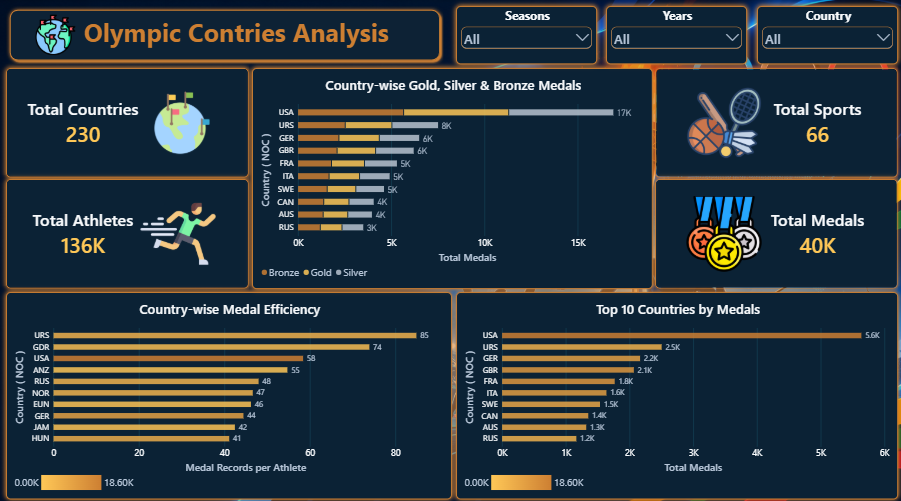

This screenshot's page, from the dashboard's own definition file:
{"tool":"powerbi","page":{"name":"Countries","canvas":[1920,1080],"ordinal":3},"visuals":[{"type":"cardVisual","fields":{"Data":["athlete_events.Total Countries"]},"box":[13,145.7,516,232.6],"z":0},{"type":"cardVisual","fields":{"Data":["athlete_events.Total Sports"]},"box":[1393.5,145.7,516,233],"z":1000},{"type":"cardVisual","fields":{"Data":["athlete_events.Total Athletes"]},"box":[13,382.6,516,232.6],"z":2000},{"type":"cardVisual","fields":{"Data":["athlete_events.Total Medals"]},"box":[1393.5,382.6,516,233],"z":3000},{"type":"clusteredBarChart","title":"Top 10 Countries by Medals","fields":{"Category":["athlete_events.NOC"],"Y":["athlete_events.Total Medals"]},"box":[969.6,623.9,940,441.3],"z":4000},{"type":"clusteredBarChart","title":"Country-wise Medal Efficiency","fields":{"Category":["athlete_events.NOC"],"Y":["athlete_events.Medal Efficiency %"]},"box":[13,623.9,947.8,441.3],"z":5000},{"type":"barChart","title":"Country-wise Gold, Silver & Bronze Medals","fields":{"Category":["athlete_events.NOC"],"Series":["athlete_events.Medal"],"Y":["athlete_events.Total Medals"]},"box":[534.8,145.7,852.2,470],"z":6000},{"type":"slicer","title":"Years","fields":{"Values":["athlete_events.Year"]},"box":[1289.1,15.2,300,123.9],"z":7000},{"type":"slicer","title":"Country","fields":{"Values":["athlete_events.NOC"]},"box":[1608.7,15.2,300,123.9],"z":8000},{"type":"shape","title":"Olympic Contries Analysis","box":[12.8,14.9,930.4,123.9],"z":9000},{"type":"image","box":[52.2,32.6,128.3,89.1],"z":10000},{"type":"image","box":[1439.1,182.6,200,160.9],"z":11000},{"type":"image","box":[1439.1,419.6,200,160.9],"z":12000},{"type":"image","box":[278.3,419.6,200,160.9],"z":13000},{"type":"image","box":[310.9,193.5,152.2,139.1],"z":14000},{"type":"slicer","title":"Seasons","fields":{"Values":["athlete_events.Season"]},"box":[969.6,15.2,300,123.9],"z":15000}]}

Visuals, with their boxes in screenshot pixels (x1, y1, x2, y2), scaled from the page's 1920x1080 canvas onto the 901x501 screenshot:
cardVisual - athlete_events.Total Countries: [6,68,248,175]
cardVisual - athlete_events.Total Sports: [654,68,896,176]
cardVisual - athlete_events.Total Athletes: [6,177,248,285]
cardVisual - athlete_events.Total Medals: [654,177,896,286]
"Top 10 Countries by Medals" clusteredBarChart: [455,289,896,494]
"Country-wise Medal Efficiency" clusteredBarChart: [6,289,451,494]
"Country-wise Gold, Silver & Bronze Medals" barChart: [251,68,651,286]
"Years" slicer: [605,7,746,65]
"Country" slicer: [755,7,896,65]
"Olympic Contries Analysis" shape: [6,7,443,64]
image: [24,15,85,56]
image: [675,85,769,159]
image: [675,195,769,269]
image: [131,195,224,269]
image: [146,90,217,154]
"Seasons" slicer: [455,7,596,65]
